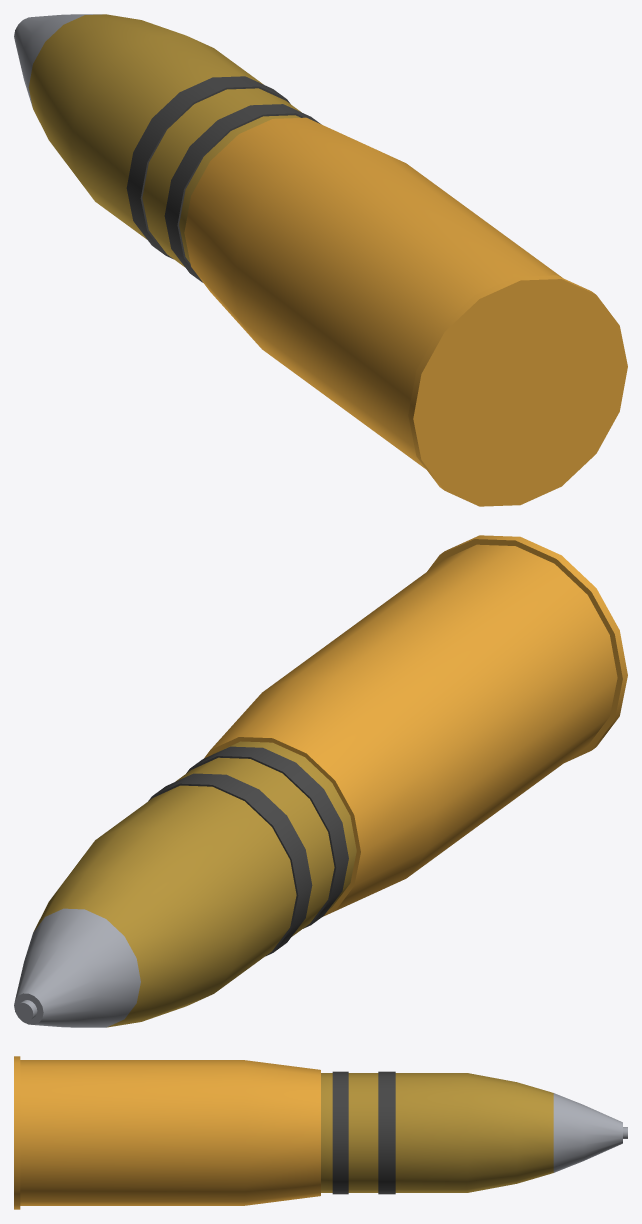
Rendered from he_shell_88.fbx.
3 views of the same model, one above another, from view 1: azimuth 30°, elevation 25°; view 2: azimuth 150°, elevation 25°; view 3: azimuth 270°, elevation 25° (orthographic). The views are drawn at different scales.
Visible parts, largest first — view 1: Case; view 2: Case; view 3: Case.
Boxes of the visible parts, <box> form: Case: <box>14,14,627,506</box>; Case: <box>14,535,627,1027</box>; Case: <box>14,1056,627,1209</box>.
Size of the model in its own units: 100 by 100 by 400.
